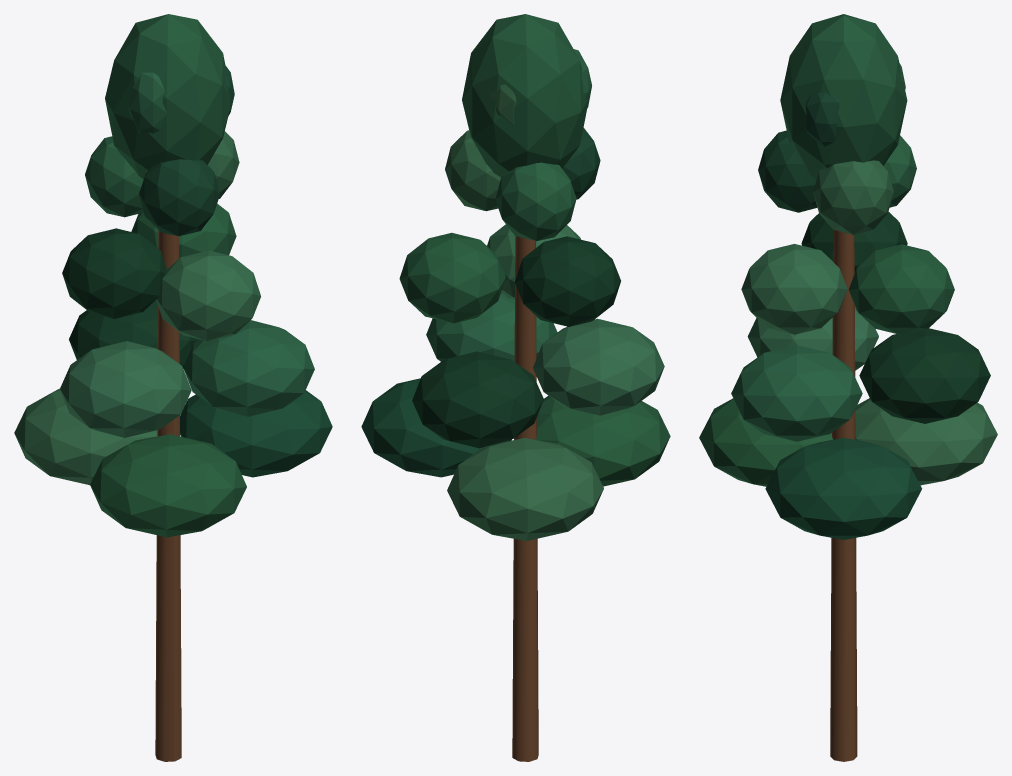
File: pine-open.mid.glb
The picture shows the model from 3 angles, left to right: view 1: azimuth 30°, elevation 25°; view 2: azimuth 150°, elevation 25°; view 3: azimuth 270°, elevation 25°; orthographic projection.
Visible parts, largest first — view 1: foliage, wood; view 2: foliage, wood; view 3: foliage, wood.
Part boxes in pixels (x1,y1,x2,y2): foliage: (14,14,332,537); wood: (155,230,181,761); foliage: (361,14,670,540); wood: (512,236,538,761); foliage: (699,14,997,539); wood: (830,229,857,761).
Bounding box in the file's own units: 5.68 × 15 × 5.48.
